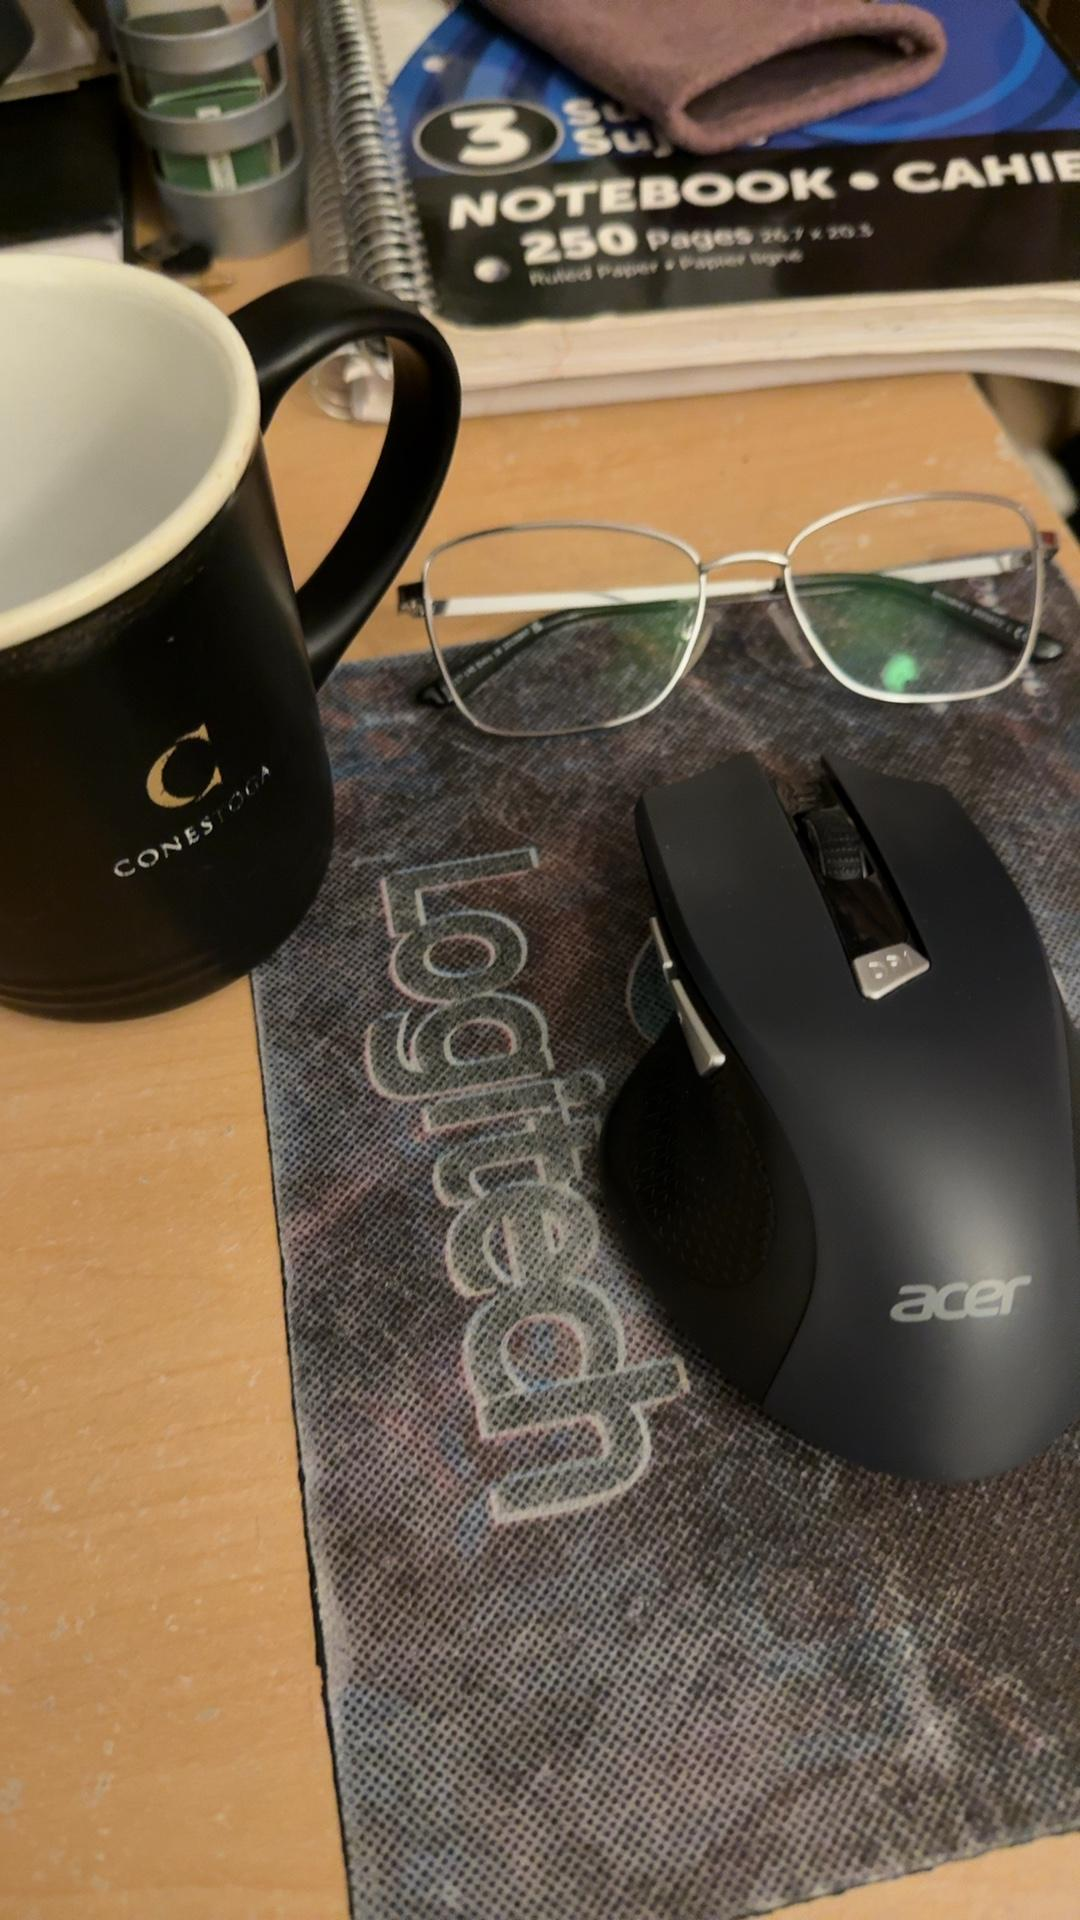Aulaf75: (617, 757, 1080, 1498)
